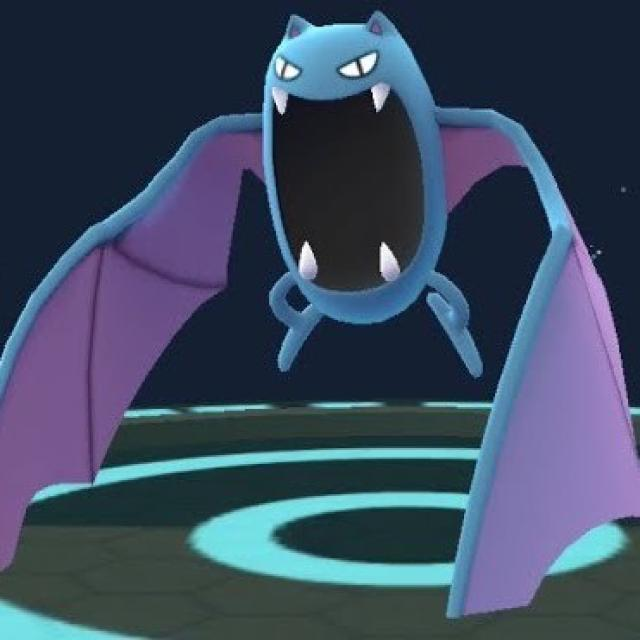Golbat: (152, 4, 572, 366)
